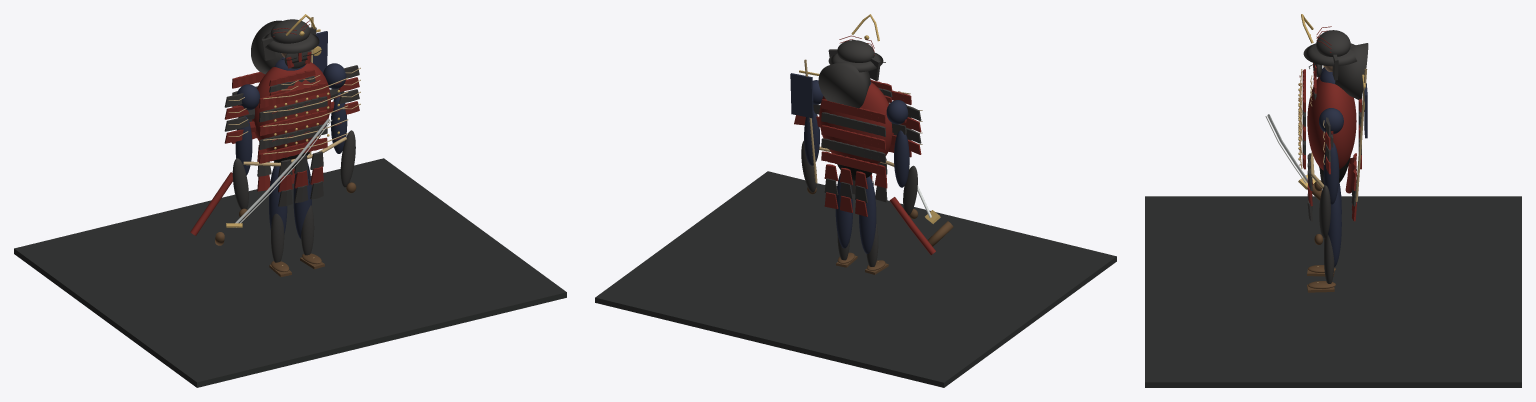
Rendered from actor-takeda-09.glb.
The picture shows the model from 3 angles, left to right: view 1: azimuth 30°, elevation 25°; view 2: azimuth 150°, elevation 25°; view 3: azimuth 270°, elevation 25°; orthographic projection. The views are drawn at different scales.
Parts seen in each view (by area): view 1: matte charcoal inspection plinth, rounded do cuirass silhouette, rear shikoro neck guard flare, segmented kabuto helmet bowl, right armored upper arm, right kote forearm guard, left kote forearm guard, wide kabuto brim, left hakama trouser leg, right hakama trouser leg, left armored upper arm, left shin greave (+2 smaller); view 2: matte charcoal inspection plinth, rear shikoro neck guard flare, rounded do cuirass silhouette, cloth sashimono banner panel, left hakama trouser leg, left armored upper arm, segmented kabuto helmet bowl, right hakama trouser leg, right armored upper arm, left kote forearm guard, lacquered saya scabbard at left hip; view 3: matte charcoal inspection plinth, rounded do cuirass silhouette, rear shikoro neck guard flare, segmented kabuto helmet bowl, right hakama trouser leg, wide kabuto brim, right armored upper arm, right kote forearm guard, right shoulder undercloth, right shin greave, bamboo sashimono back pole.
Boxes of the visible parts, x1,y1,x2,y2 form: matte charcoal inspection plinth: [14, 158, 566, 387]; rounded do cuirass silhouette: [252, 62, 330, 151]; rear shikoro neck guard flare: [251, 20, 283, 74]; segmented kabuto helmet bowl: [270, 19, 310, 43]; right armored upper arm: [331, 93, 347, 153]; right kote forearm guard: [340, 130, 355, 187]; left kote forearm guard: [232, 158, 248, 209]; wide kabuto brim: [261, 33, 319, 53]; left hakama trouser leg: [269, 166, 287, 234]; right hakama trouser leg: [293, 163, 311, 239]; left armored upper arm: [235, 116, 252, 175]; left shin greave: [271, 213, 284, 262]; matte charcoal inspection plinth: [595, 171, 1116, 387]; rear shikoro neck guard flare: [818, 61, 870, 108]; rounded do cuirass silhouette: [819, 82, 893, 164]; cloth sashimono banner panel: [790, 73, 813, 118]; left hakama trouser leg: [859, 176, 876, 253]; left armored upper arm: [894, 130, 909, 187]; segmented kabuto helmet bowl: [837, 40, 874, 62]; right hakama trouser leg: [835, 173, 852, 248]; right armored upper arm: [804, 111, 819, 165]; left kote forearm guard: [903, 165, 917, 215]; lacquered saya scabbard at left hip: [889, 197, 935, 254]; matte charcoal inspection plinth: [1145, 196, 1521, 387]; rounded do cuirass silhouette: [1307, 76, 1356, 170]; rear shikoro neck guard flare: [1335, 43, 1368, 99]; segmented kabuto helmet bowl: [1316, 30, 1350, 56]; right hakama trouser leg: [1328, 189, 1341, 267]; wide kabuto brim: [1303, 43, 1356, 66]; right armored upper arm: [1323, 142, 1339, 204]; right kote forearm guard: [1319, 185, 1330, 238]; right shoulder undercloth: [1319, 108, 1343, 134]; right shin greave: [1324, 234, 1334, 283]; bamboo sashimono back pole: [1355, 68, 1367, 201].
Bounding box in the file's own units: 4.2 × 2.96 × 3.6.
